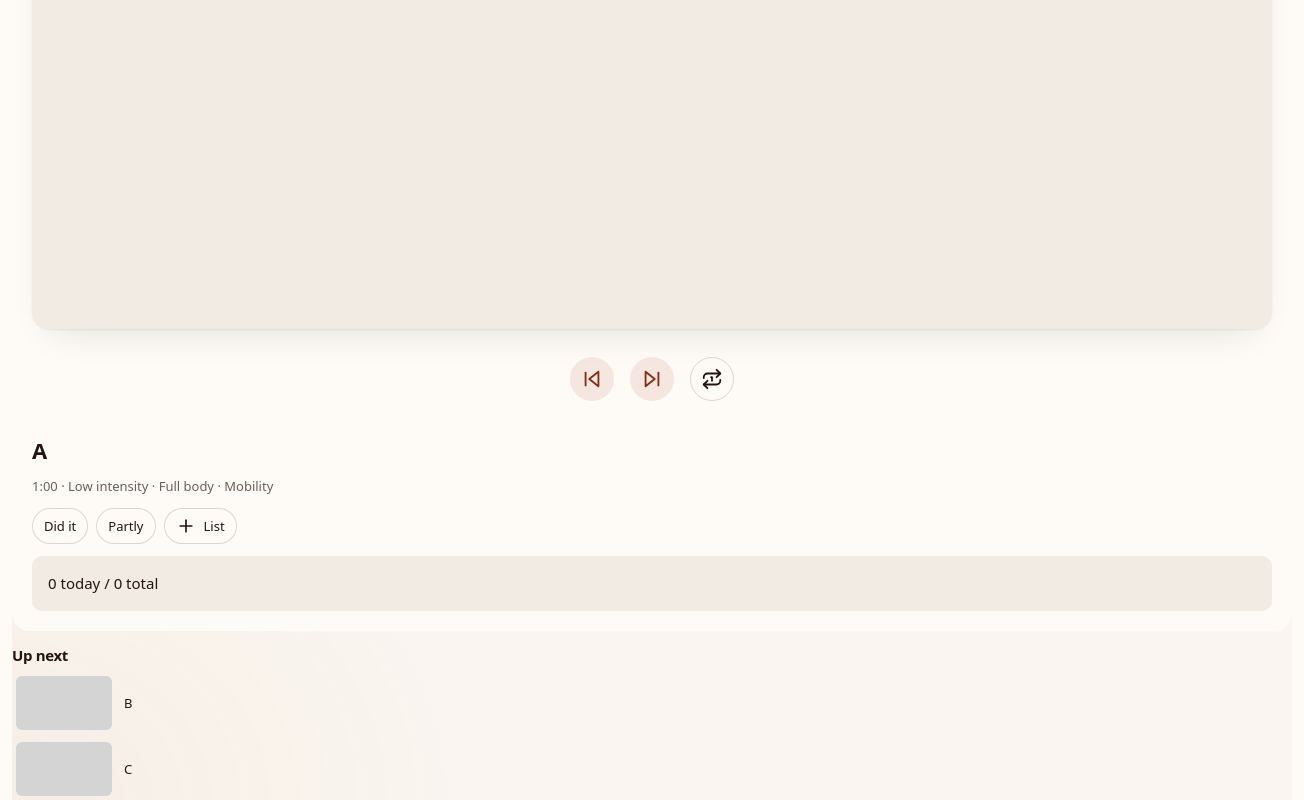
it: a manual log is not doubled by auto-check
(page scrolled)
Click the button "Did it" at {"x": 60, "y": 526}, box [32, 508, 88, 544]
(page scrolled)
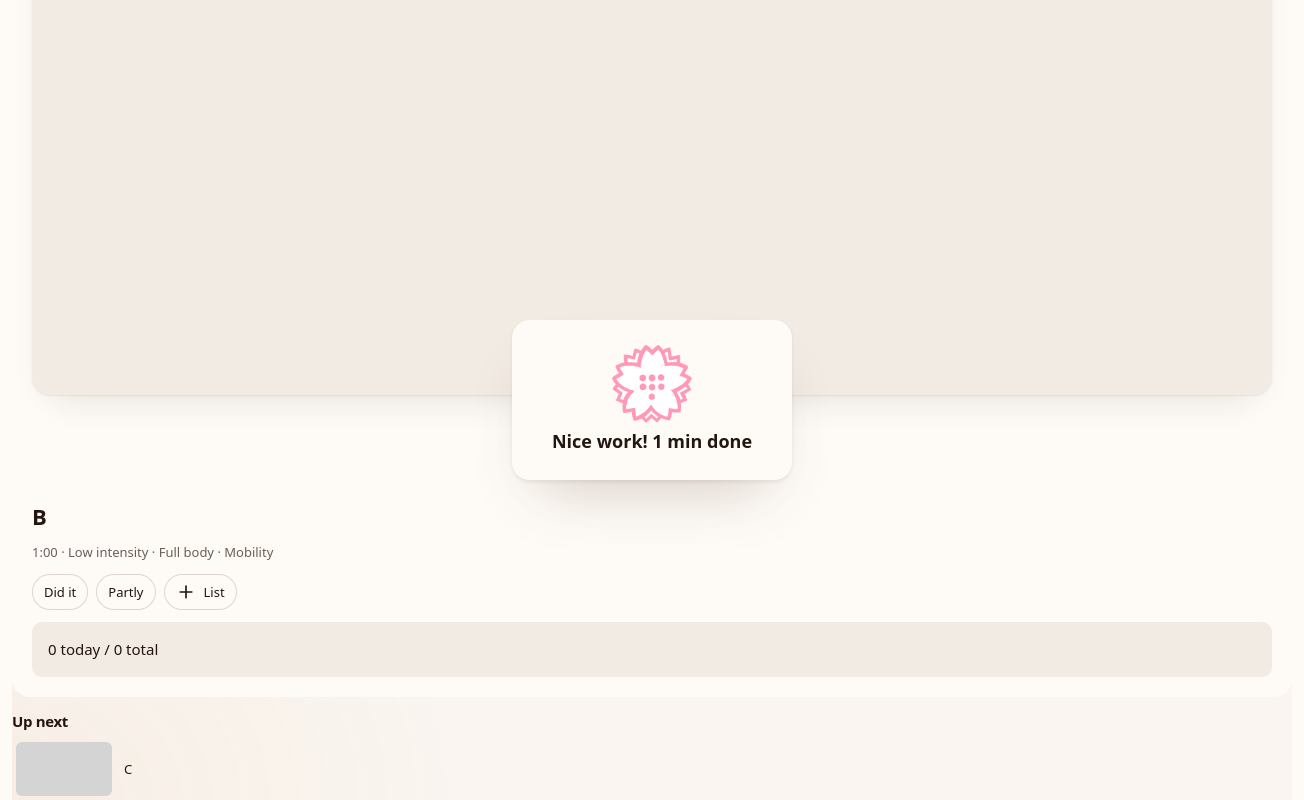
Now the heading "B" is shown, box [32, 500, 46, 530]
